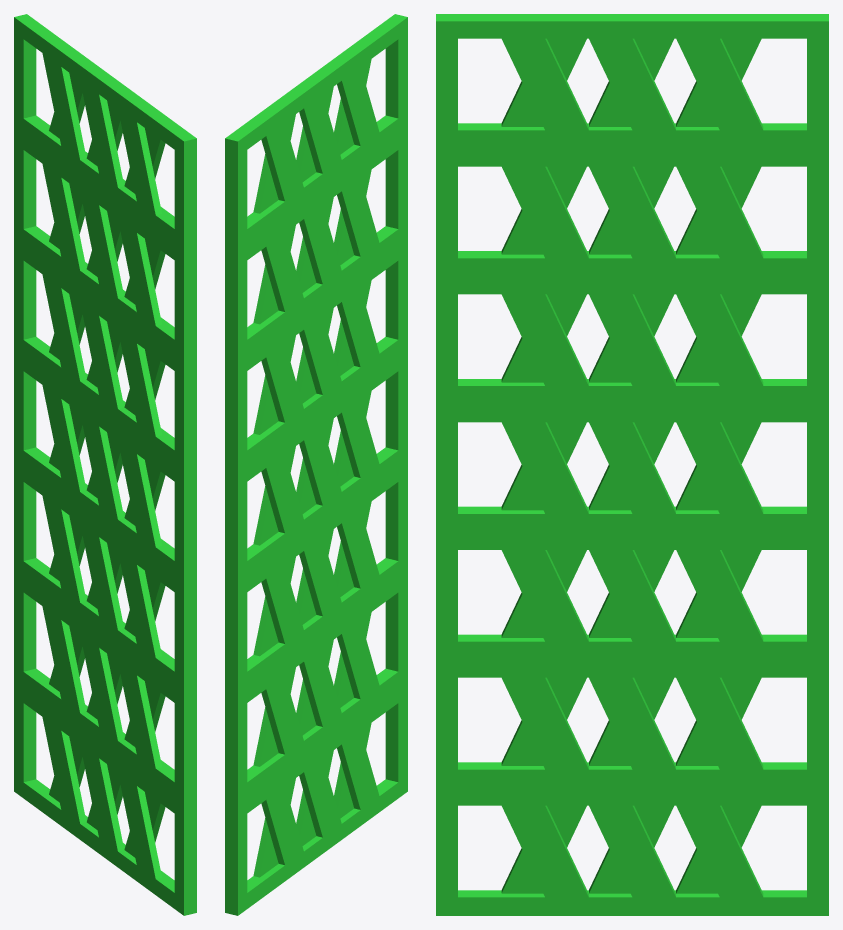
Rendered from TrellisFence.fbx.
3 renders of one model, left to right at view 1: azimuth 30°, elevation 25°; view 2: azimuth 150°, elevation 25°; view 3: azimuth 270°, elevation 25°, orthographic. The views are drawn at different scales.
Visible parts, largest first — view 1: Cube; view 2: Cube; view 3: Cube.
Part boxes in pixels (<box>): Cube: <box>14,14,196,915</box>; Cube: <box>225,14,407,915</box>; Cube: <box>436,14,828,915</box>.
Size of the model in its own units: 34.29 by 1974 by 785.
